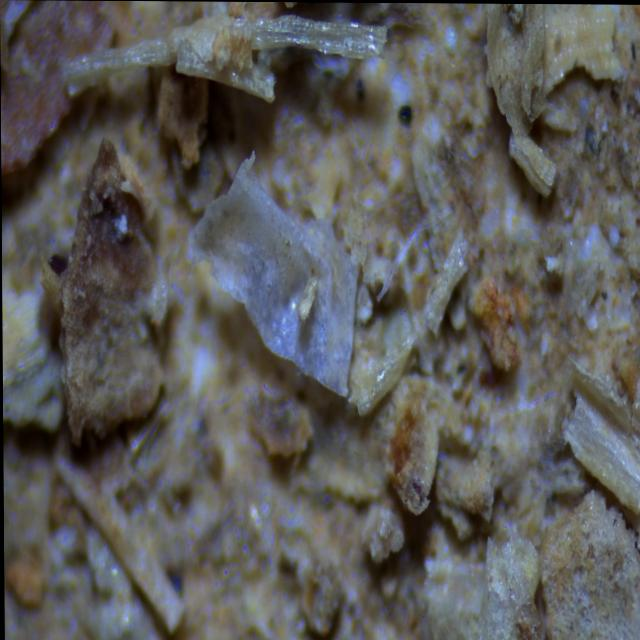microplastic: (142, 150, 418, 408)
